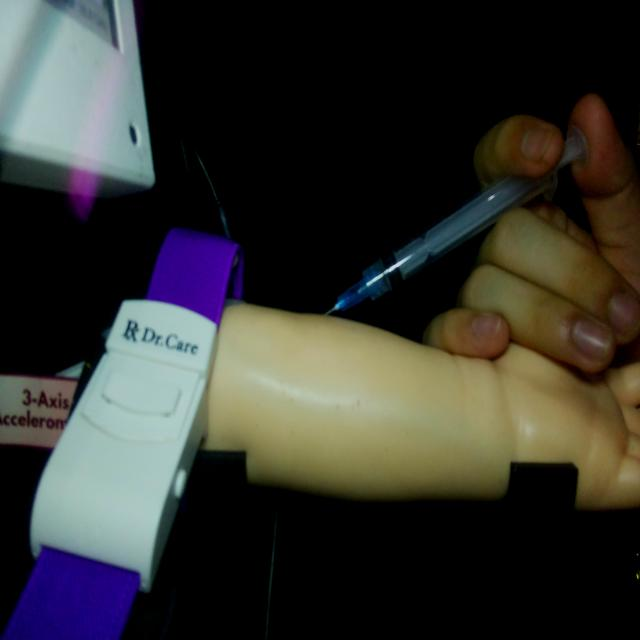26 degrees: (321, 122, 590, 318)
